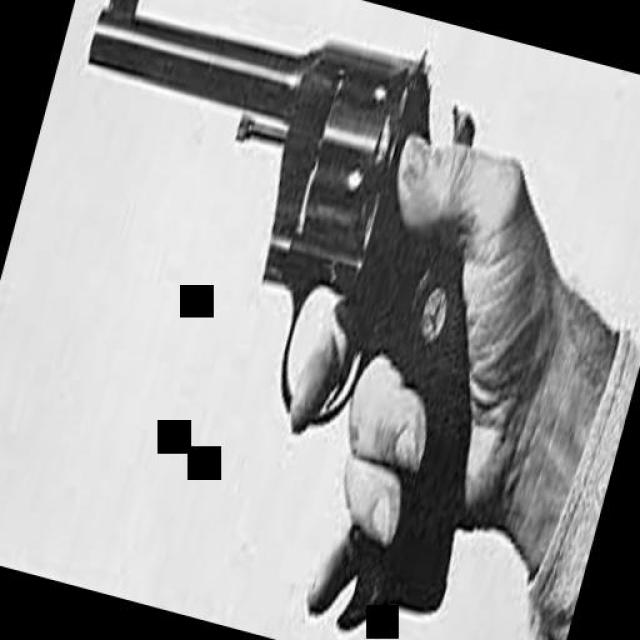gun: (0, 0, 586, 634)
